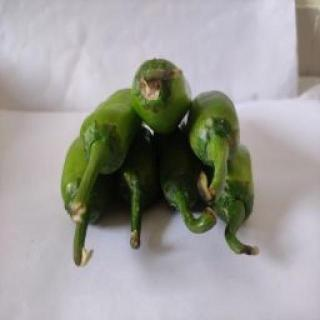Cabai Hijau: (68, 87, 140, 223), (186, 90, 242, 205), (129, 56, 192, 135)
